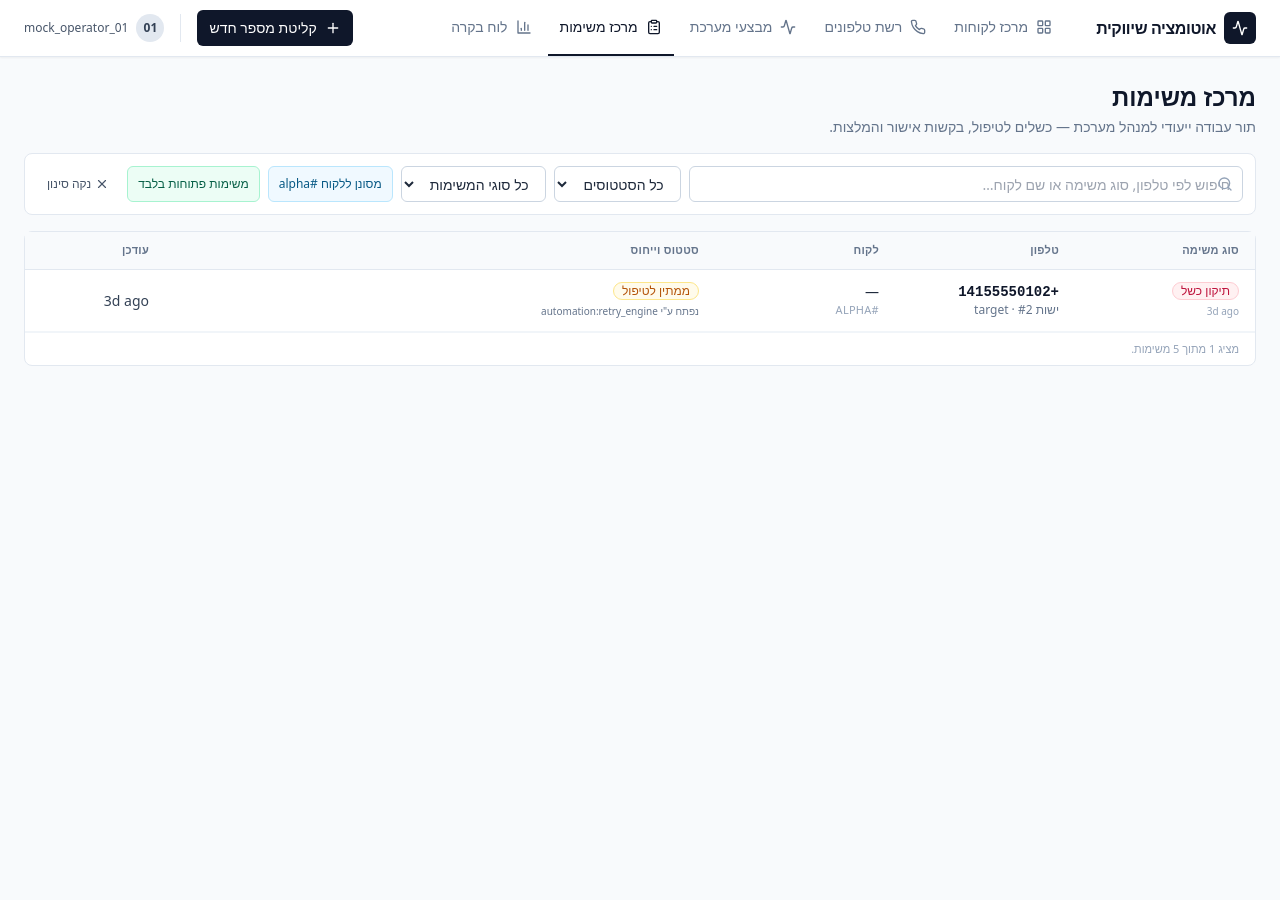
Test case: Bug 3 regression — URL is authoritative for cross-link filters › clear-filters button resets every chip at once
Expected: the text "מסונן ללקוח #alpha" is shown, [268,166,393,202]
Expected: the text "משימות פתוחות בלבד" is shown, [127,166,260,202]
Click "נקה סינון".
Click the button "נקה סינון": (78, 184) [37,166,119,202]
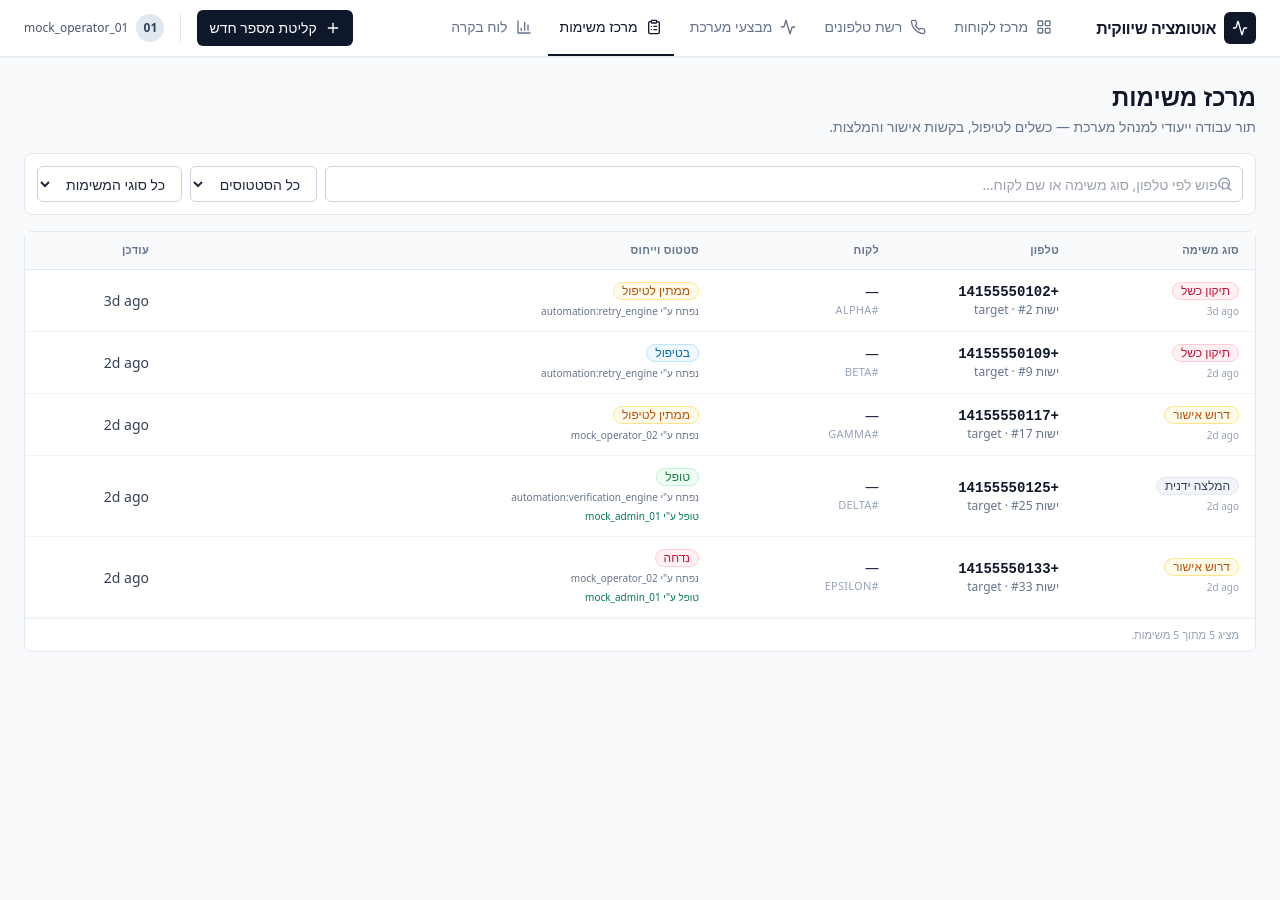
Now the text "מסונן ללקוח" is gone
Now the text "משימות פתוחות בלבד" is gone
